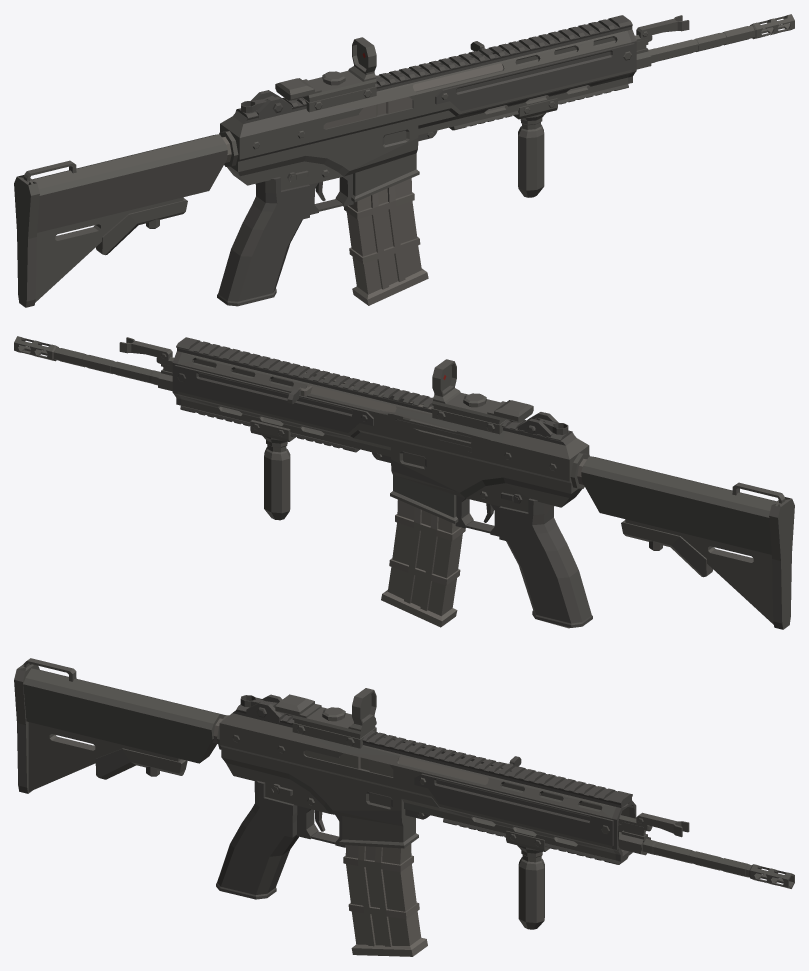
File: Rifle_01_SM.FBX
3 renders of one model, top to bottom at view 1: azimuth 30°, elevation 25°; view 2: azimuth 150°, elevation 25°; view 3: azimuth 330°, elevation 25°, orthographic.
Visible parts, largest first — view 1: Rifle_01_SM; view 2: Rifle_01_SM; view 3: Rifle_01_SM.
Boxes of the visible parts, x1,y1,x2,y2 form: Rifle_01_SM: (14, 14, 794, 307); Rifle_01_SM: (14, 336, 794, 629); Rifle_01_SM: (14, 658, 794, 956).
Size of what is drawn, in the model's own units: 81.92 by 6.45 by 26.15.
